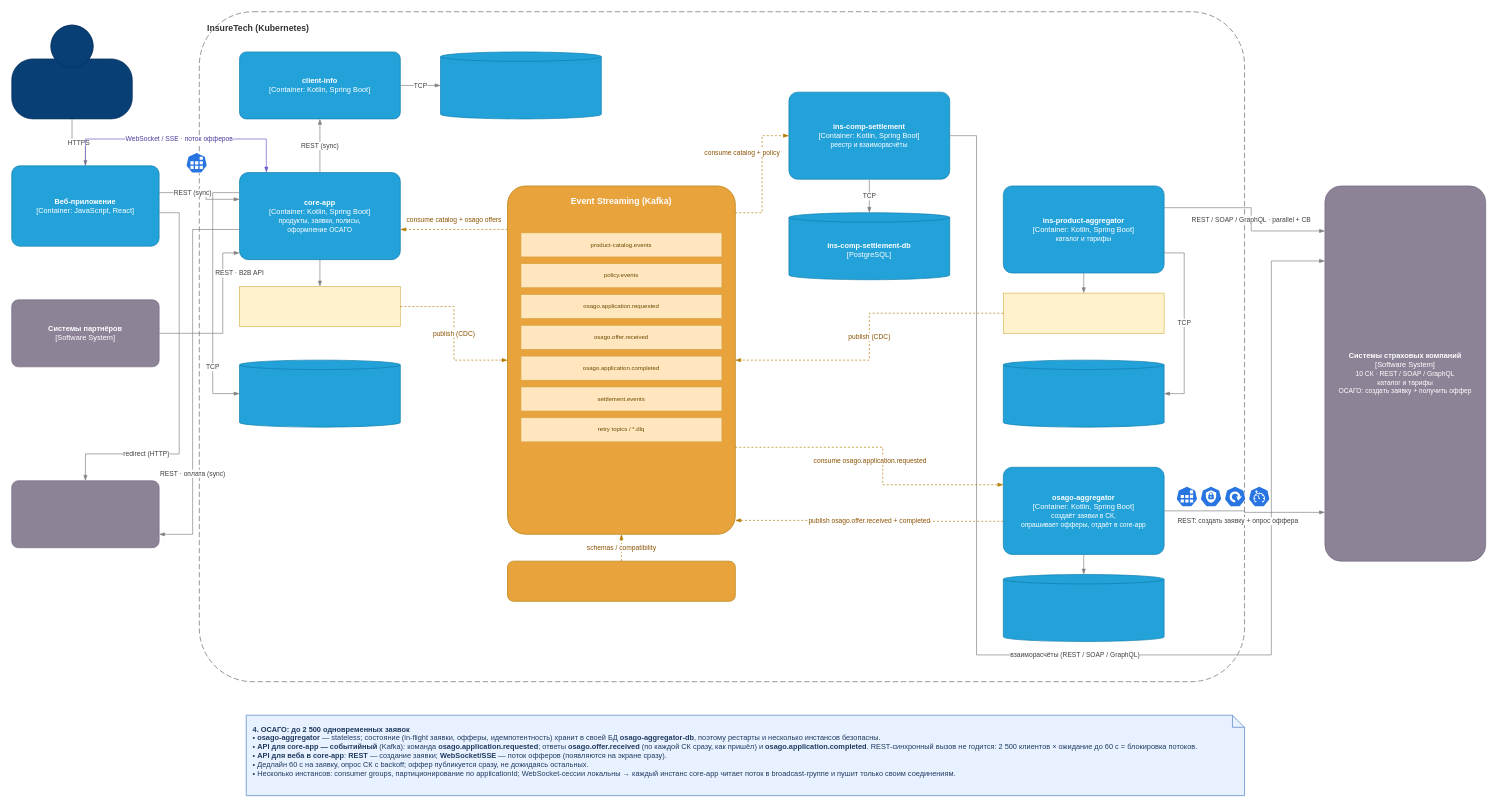
Some shapes in this 1497 by 807 pixel diagram are drawn without their labels. The shapes that lost their labels are listed below. From the top down, each one's centre as x and y in pixels, then its label:
At point (71, 71): "Клиент [Person]".
At point (520, 85): "client-info-db [PostgreSQL]".
At point (319, 306): "Outbox (в core-db) policy.events · osago.application.requested".
At point (1083, 312): "Outbox (в aggregator-db) product-catalog.events".
At point (319, 393): "core-db [PostgreSQL] тарифы, заявки, полисы, outbox".
At point (1083, 393): "aggregator-db [PostgreSQL] кэш каталога, outbox".
At point (85, 514): "Платёжный сервис [Software System]".
At point (621, 580): "Schema Registry Avro / Protobuf".
At point (1083, 608): "osago-aggregator-db [PostgreSQL] in-flight заявки, офферы, идемпотентность".
